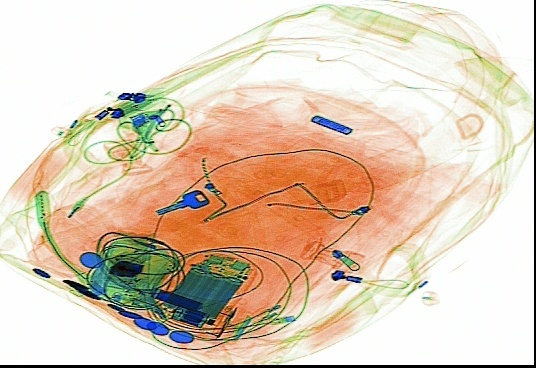powerbank: (158, 251, 258, 329)
